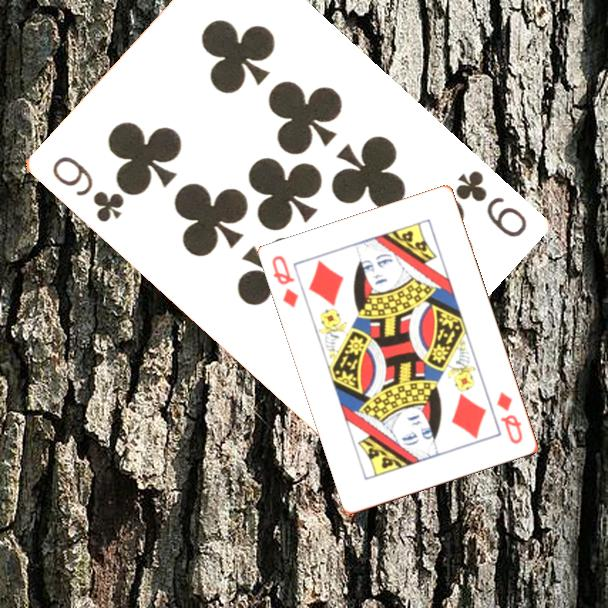c09: (451, 166, 529, 241), (48, 152, 127, 226)
d12: (269, 252, 302, 311), (493, 389, 526, 447)
